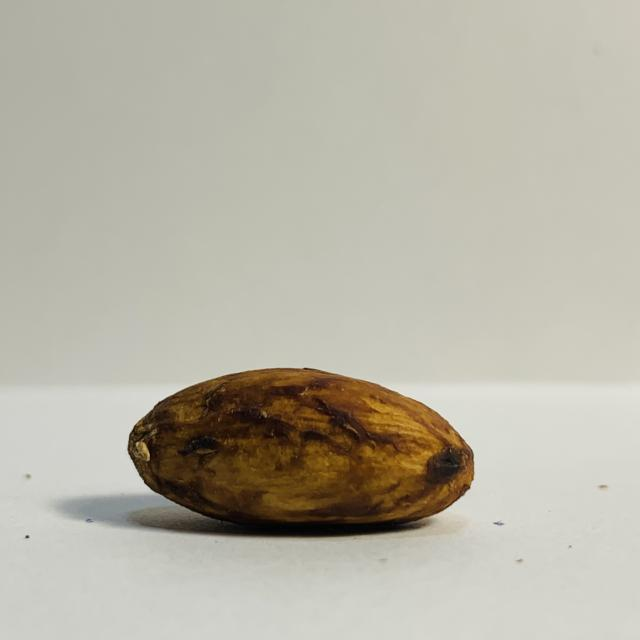Fine_cocoabeans: (59, 354, 522, 550)
